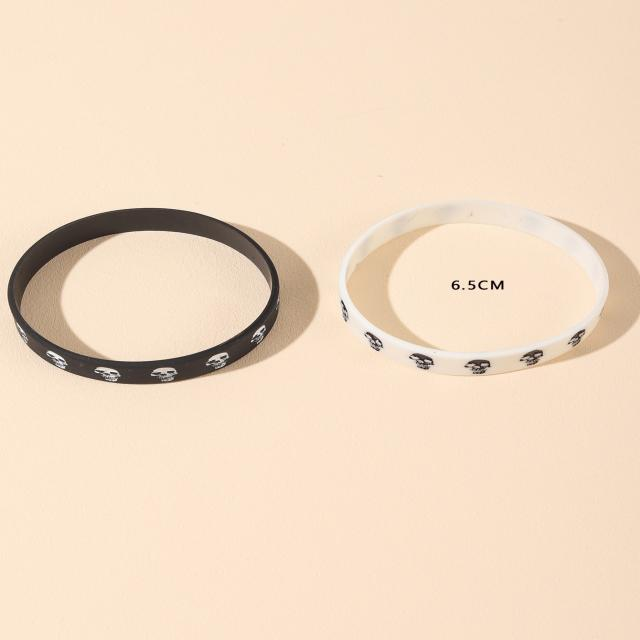bracelet: (303, 100, 640, 458), (0, 133, 318, 442)
